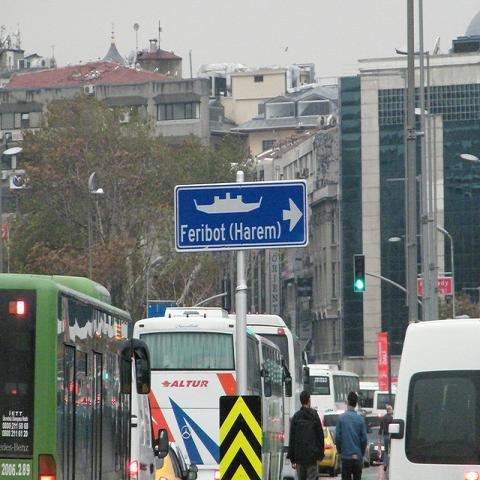bus: (0, 275, 152, 475), (132, 305, 274, 479), (227, 312, 312, 450), (302, 363, 362, 424)
car: (319, 427, 338, 477), (368, 427, 385, 465), (322, 413, 342, 436)
truck: (387, 315, 479, 474), (365, 390, 396, 433)
